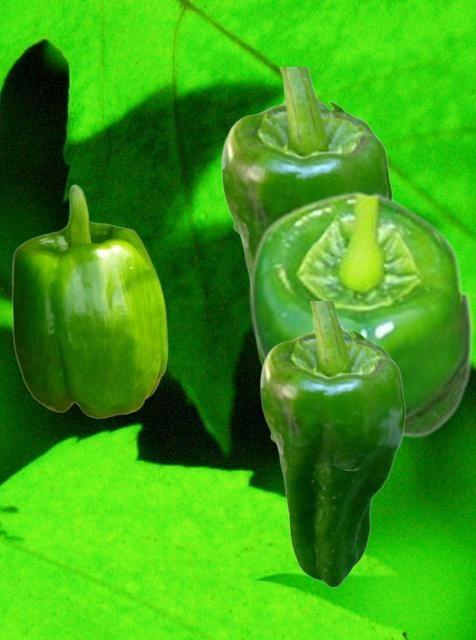bell_pepper: (247, 190, 473, 437), (220, 67, 392, 364), (259, 301, 405, 587), (11, 184, 167, 418)
